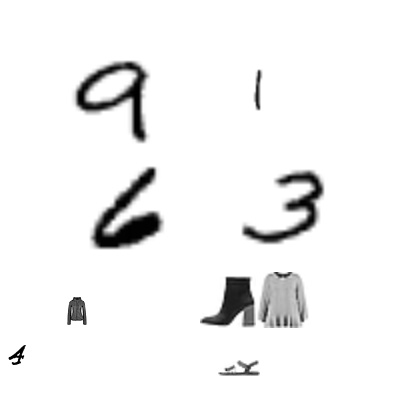1: (228, 62, 284, 118)
3: (235, 151, 347, 263)
4: (4, 341, 32, 369)
6: (71, 160, 183, 272)
9: (61, 38, 173, 150)
Ankle_boot: (200, 273, 256, 329)
Coat: (63, 297, 91, 325)
Sandal: (218, 347, 260, 389)
Shirt: (254, 272, 310, 328)
